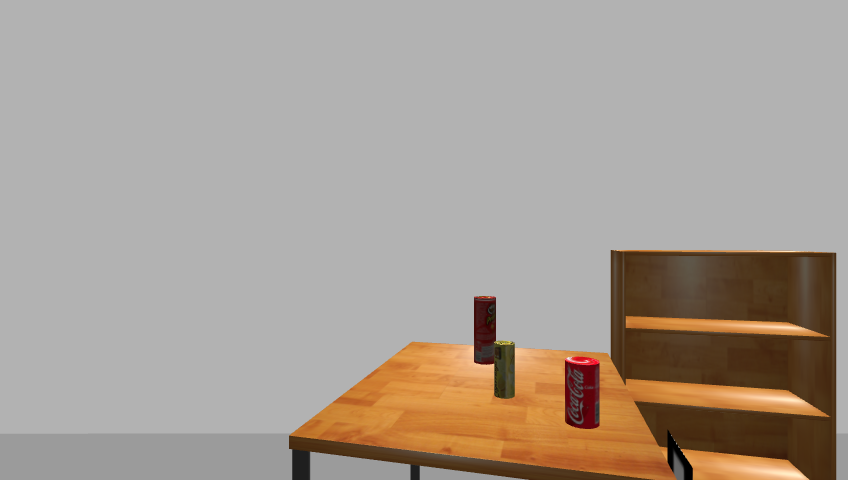aruco marker: (663, 431, 696, 480)
biscuits pack: (494, 340, 517, 400)
bookshelf: (605, 249, 844, 480)
coke can: (562, 356, 602, 430)
dinner table: (284, 341, 681, 479)
pringles can: (470, 295, 499, 367)
